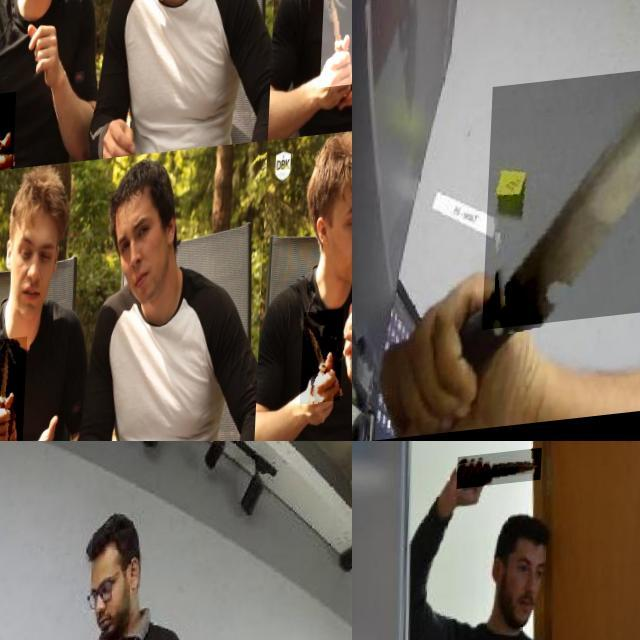-: (487, 68, 640, 334), (306, 318, 348, 413), (460, 457, 546, 496), (0, 338, 32, 441), (322, 0, 352, 96), (0, 93, 18, 173)
